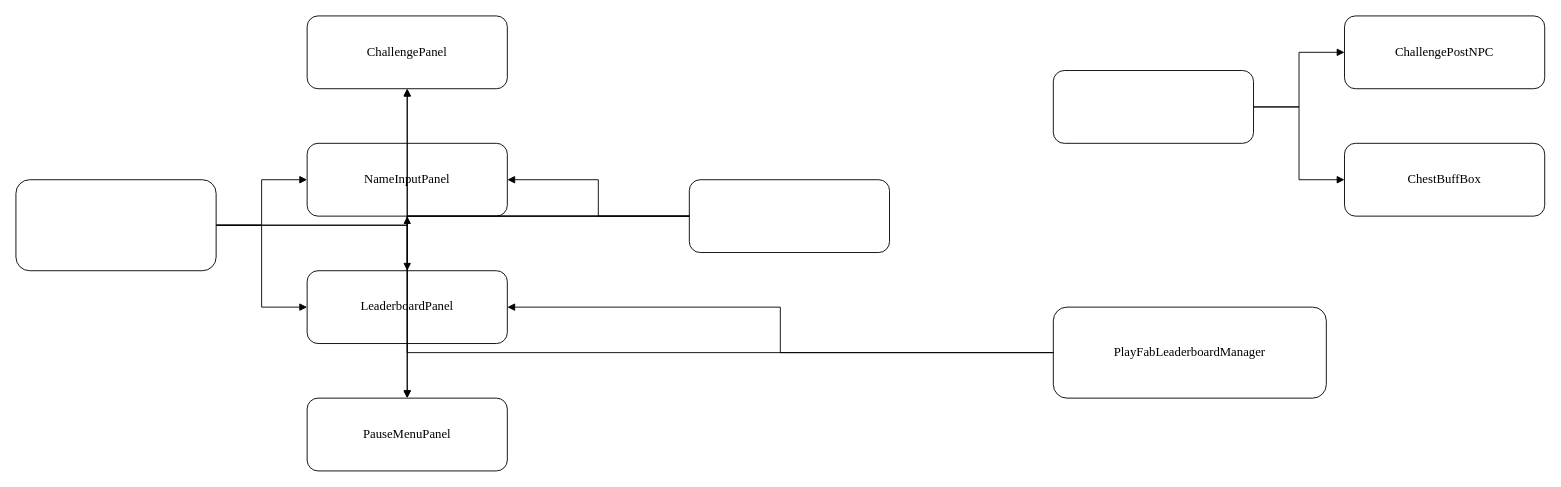
This 1561x487 diagram has some shape labels left out. Here are the shapes that lost their labels. From the top down, the centre of each, then its label:
[1153,106]: NPC
[115,225]: PanelBase
[789,216]: GameUI
